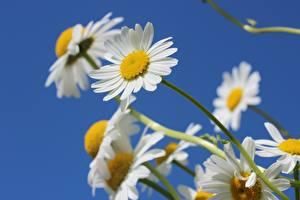chamomile: (40, 17, 123, 93), (100, 23, 166, 95), (194, 153, 292, 200), (70, 108, 128, 170), (116, 144, 156, 200), (210, 78, 256, 122), (263, 129, 300, 177)
